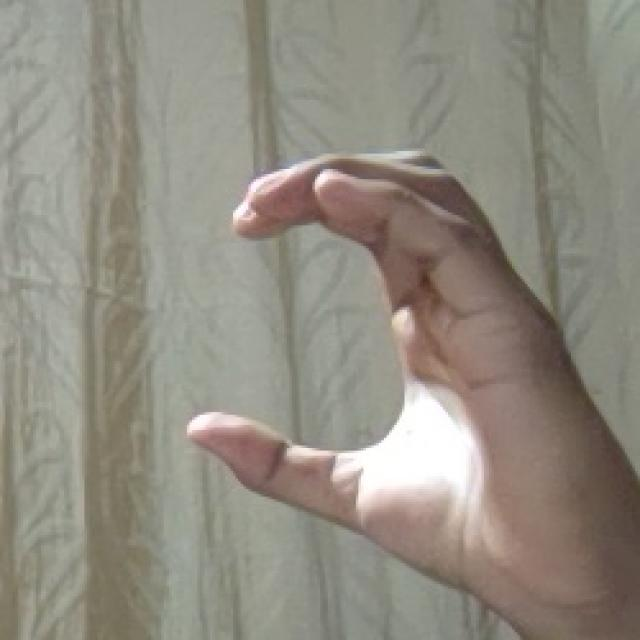Alphabet-C: (189, 151, 640, 640)
